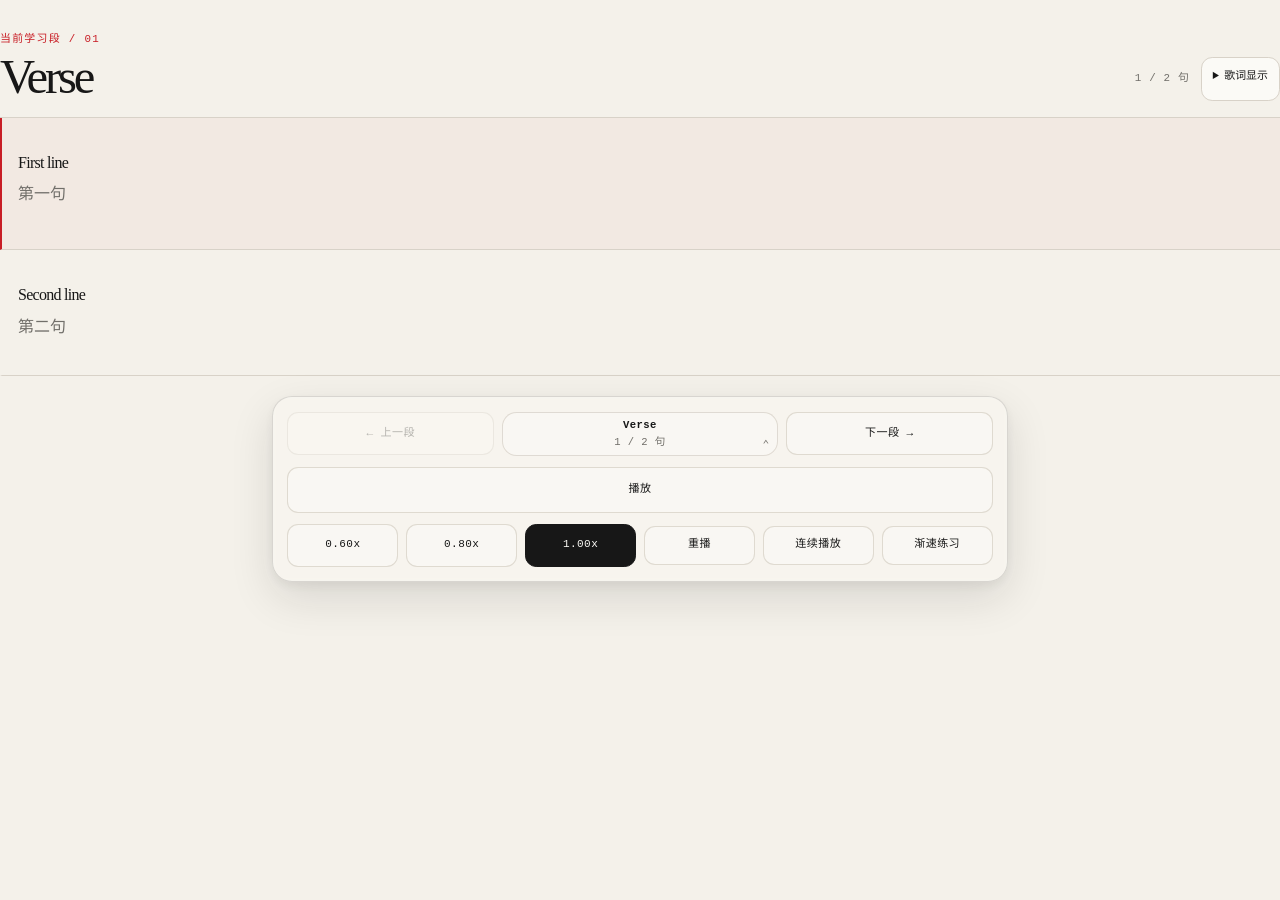
PracticeWorkspace 1.0 › uses the fixed segment picker for unit selection and closes after navigation
What coordinates should you click on to do the following:
click the button with aria-label "选择学习段：Verse"
I would click on:
 (640, 434)
Its box is x1=502 y1=412 x2=778 y2=456.
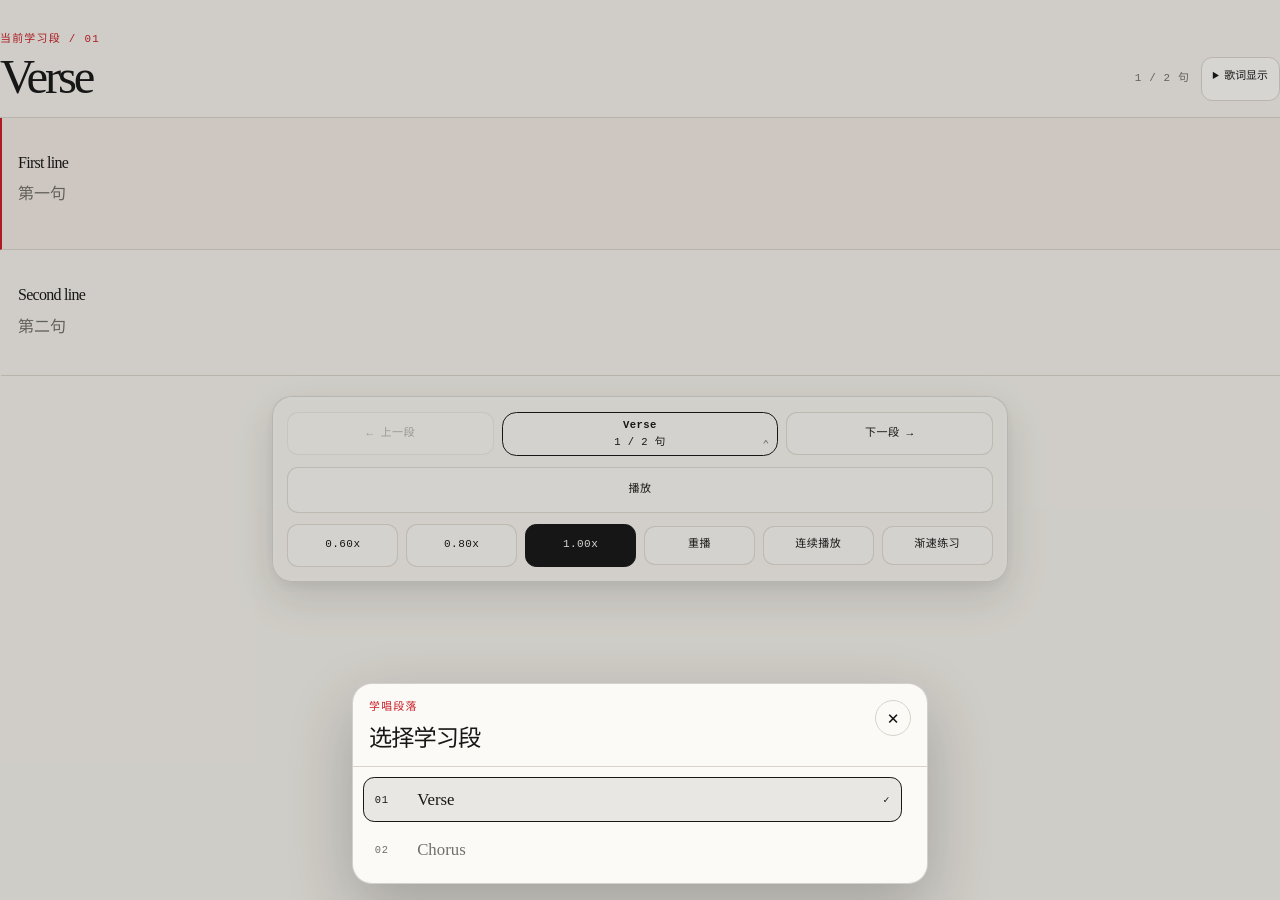
Now the dialog "选择学习段" is shown, box x1=352 y1=683 x2=928 y2=884
Now the list named "学习段" is shown, box x1=353 y1=767 x2=927 y2=883
What coordinates should you click on to do the following:
click the option "02 Chorus"
I would click on:
 (441, 850)
Its box is x1=363 y1=828 x2=902 y2=873.
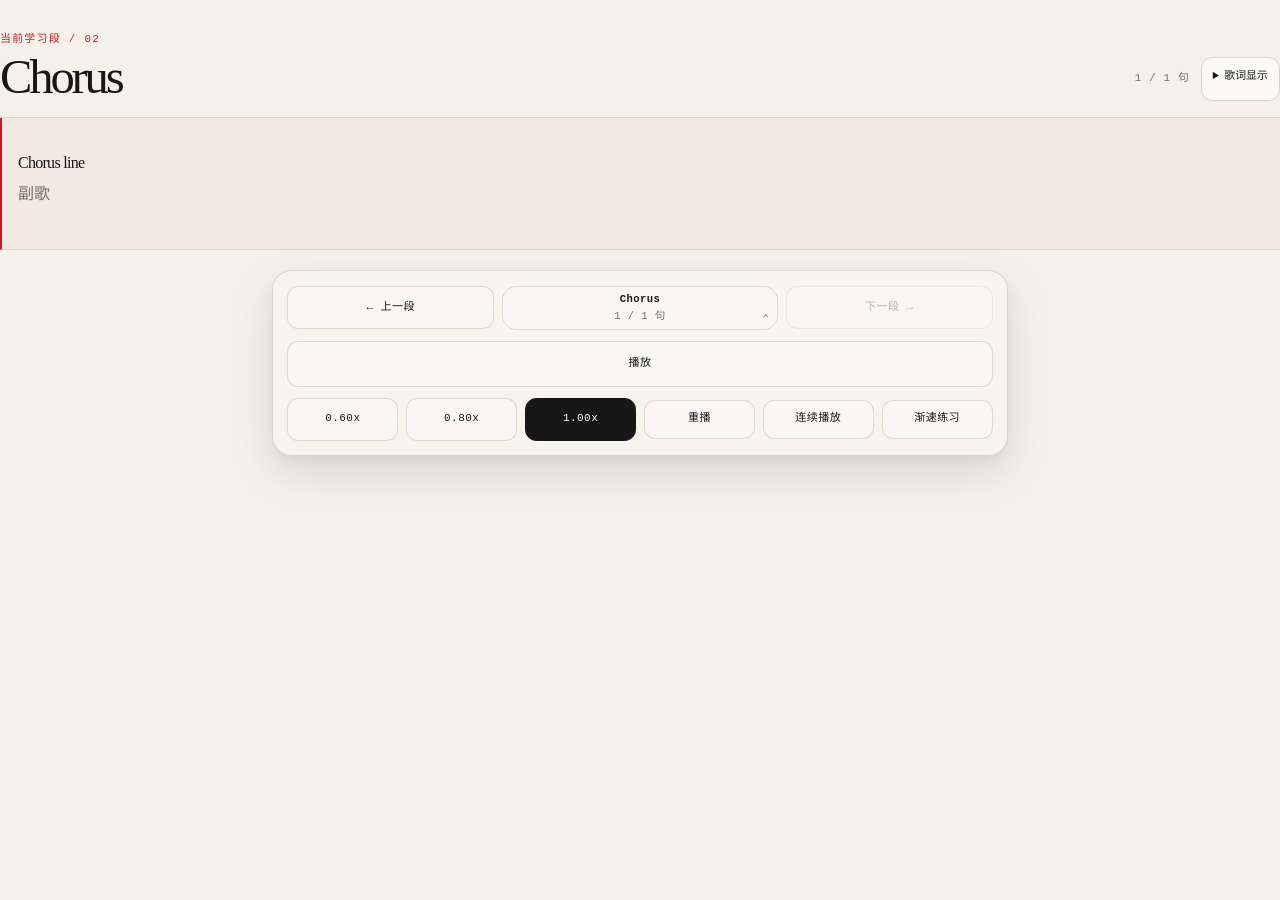
Now the heading "Chorus" is shown, box x1=0 y1=54 x2=122 y2=101
Now the heading "选择学习段" is gone
